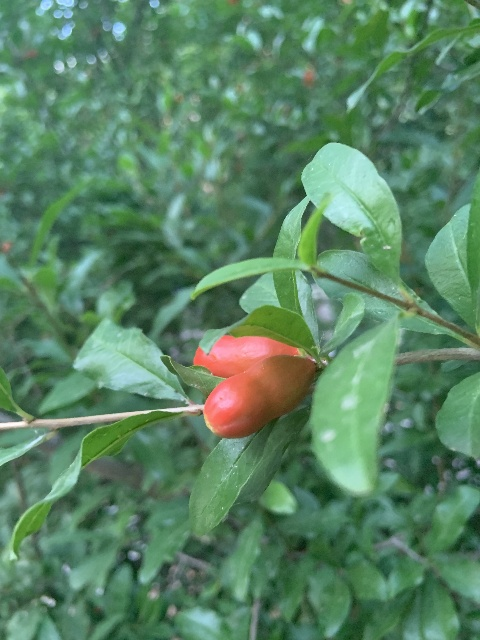bud: (202, 356, 316, 439), (194, 334, 297, 377)
